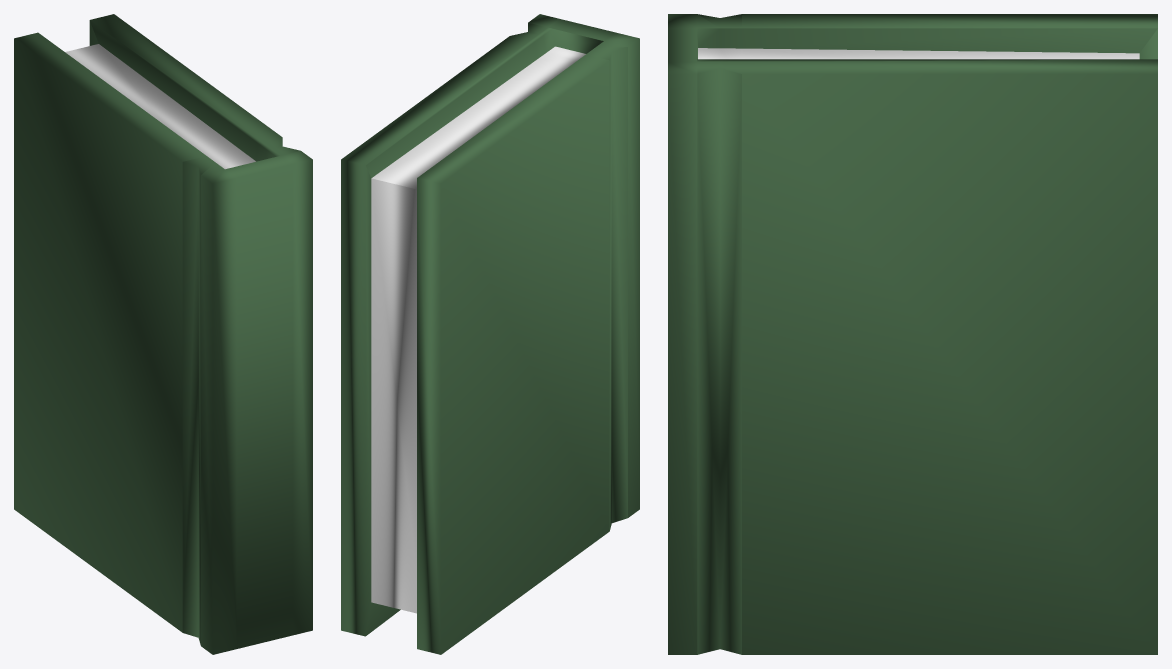
File: GreenBook.fbx
3 renders of one model, left to right at view 1: azimuth 30°, elevation 25°; view 2: azimuth 150°, elevation 25°; view 3: azimuth 270°, elevation 25°, orthographic. The views are drawn at different scales.
Parts seen in each view (by area): view 1: Green Book; view 2: Green Book; view 3: Green Book.
Boxes of the visible parts, x1=… form: Green Book: x1=14, y1=14, x2=312, y2=654; Green Book: x1=341, y1=14, x2=639, y2=654; Green Book: x1=668, y1=14, x2=1157, y2=654.
Bounding box in the file's own units: 23.49 × 106 × 80.88.
